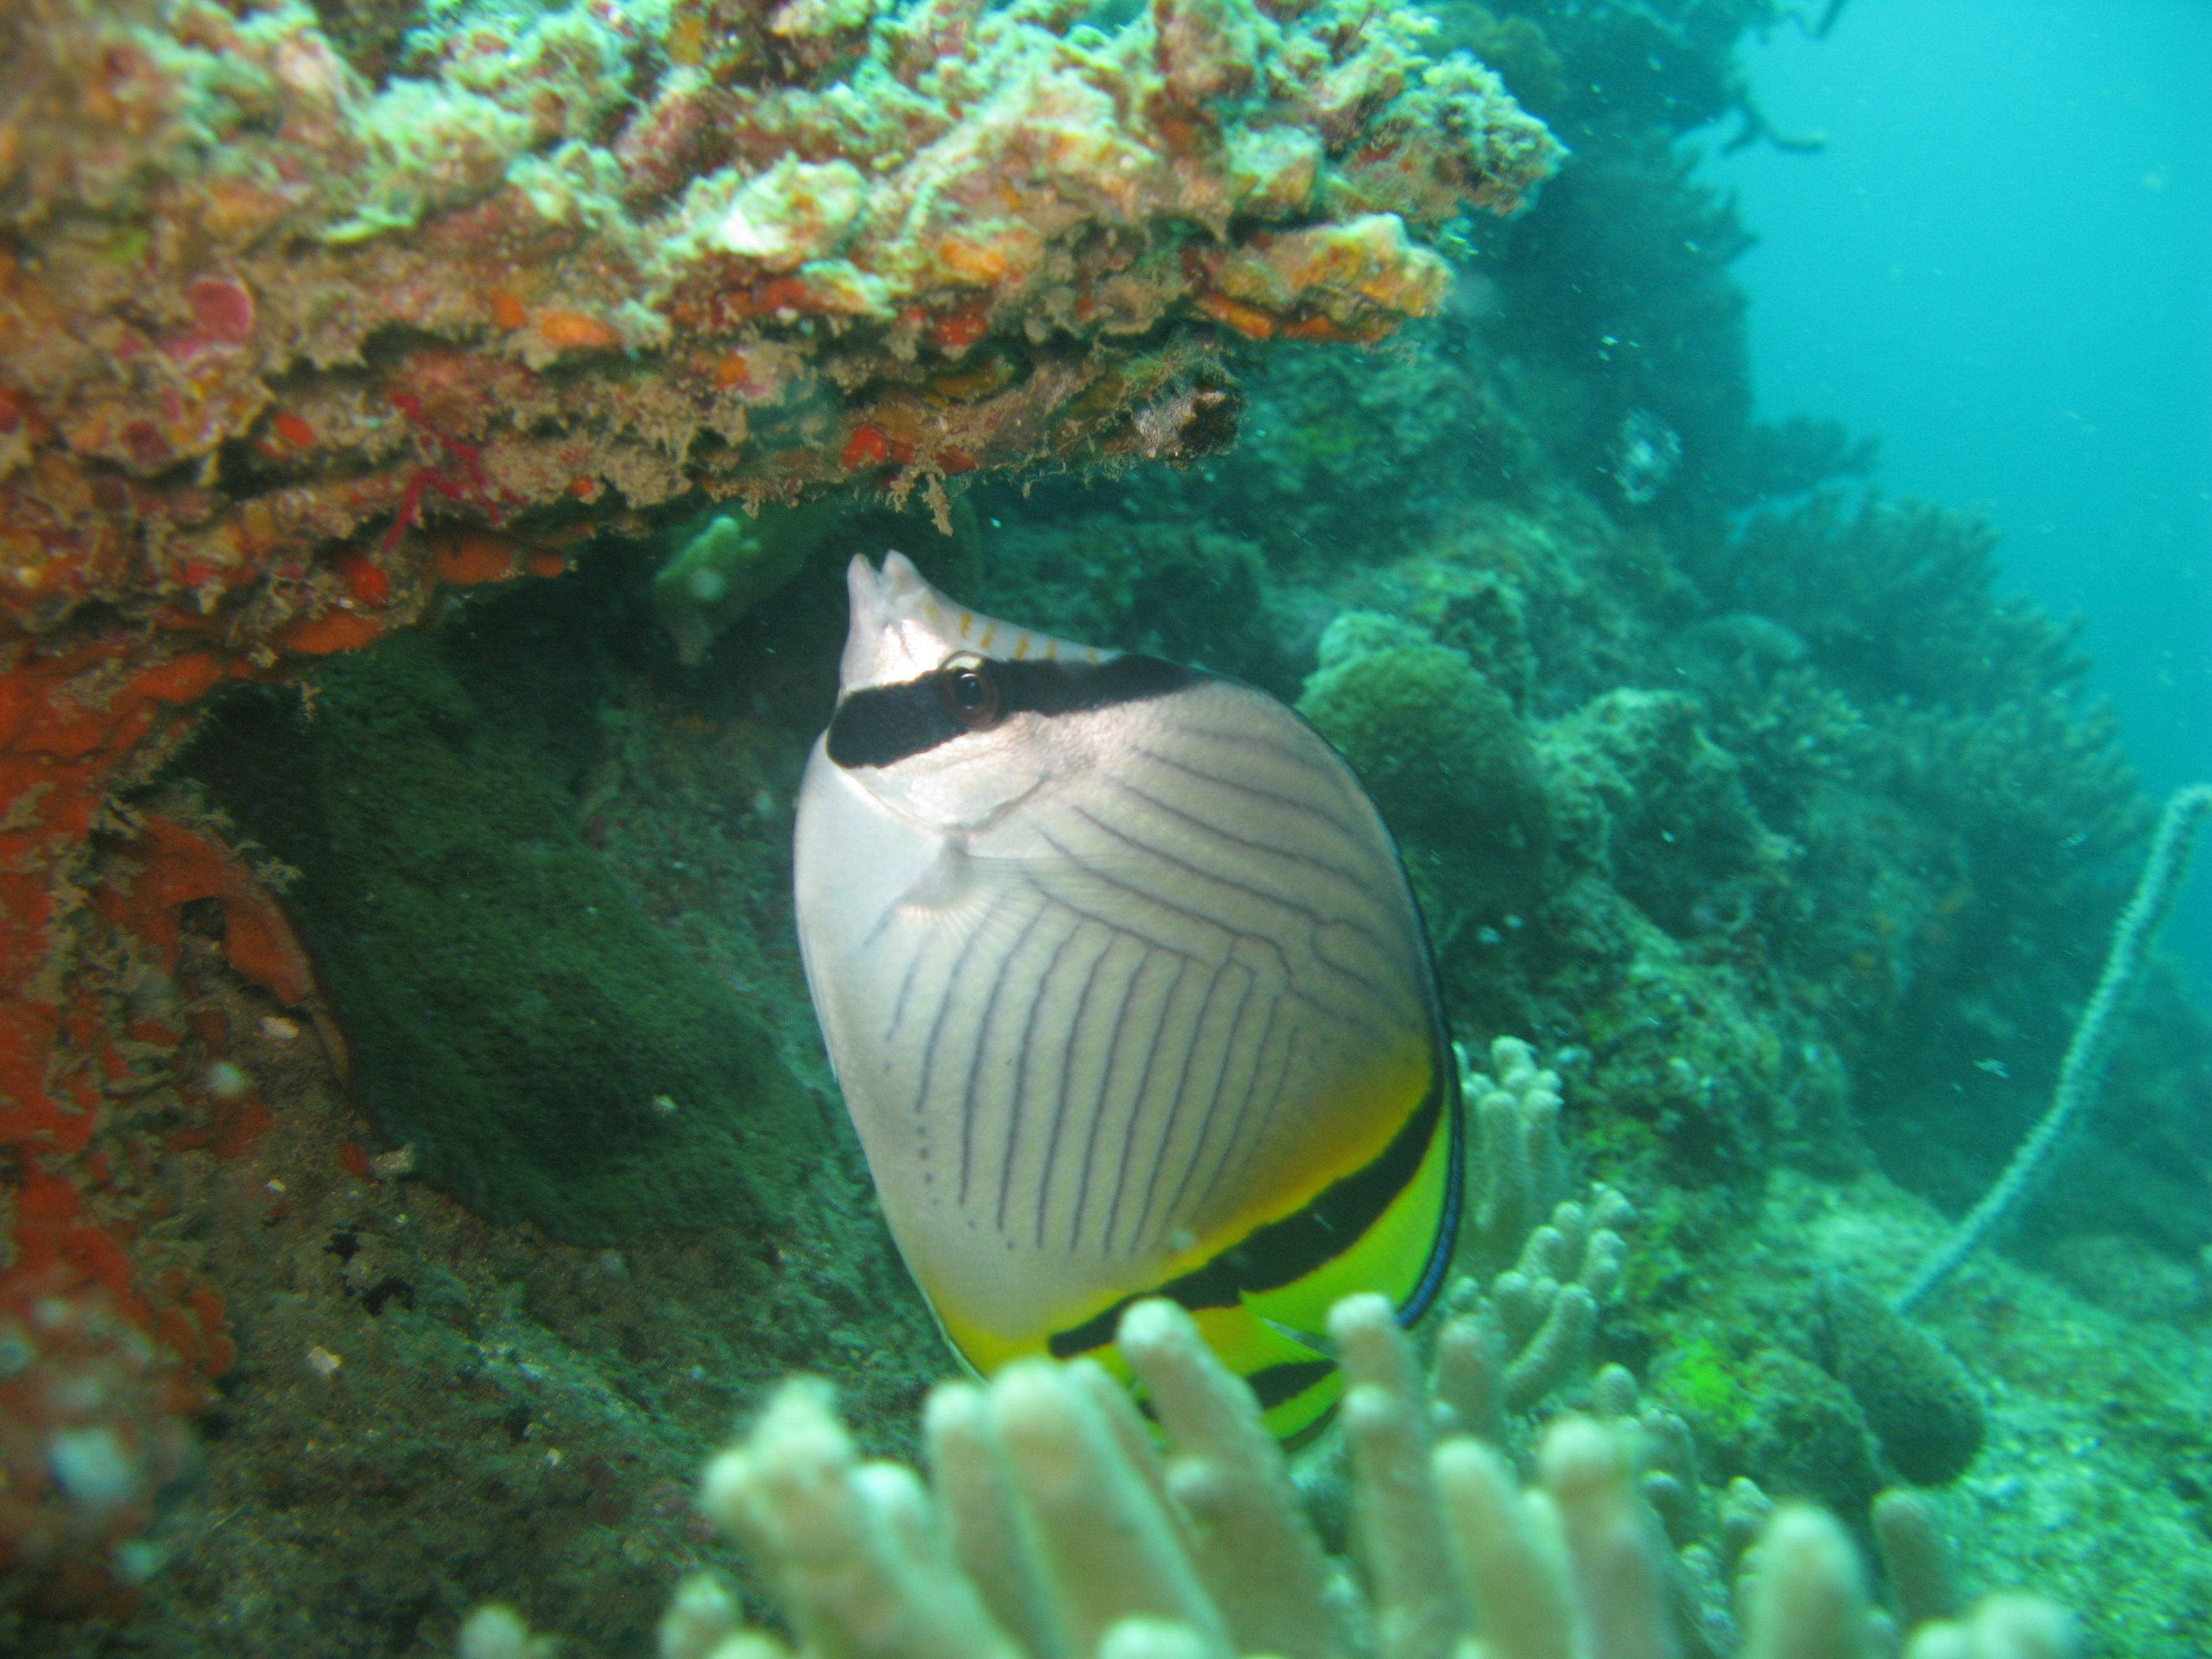Fish: (780, 512, 1479, 1493)
